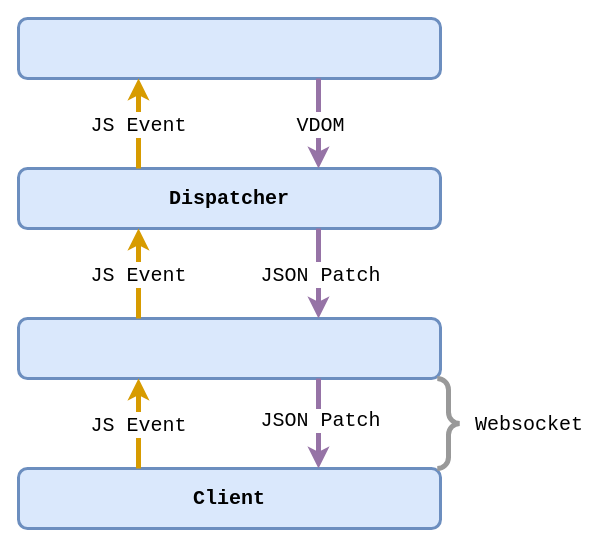
Image size: 601x547. Some labels were removed from this diagram. Here are the shapes that lost their labels. From the top down, the centre of each, then its label:
(229,48): Layout
(229,348): Web Server
